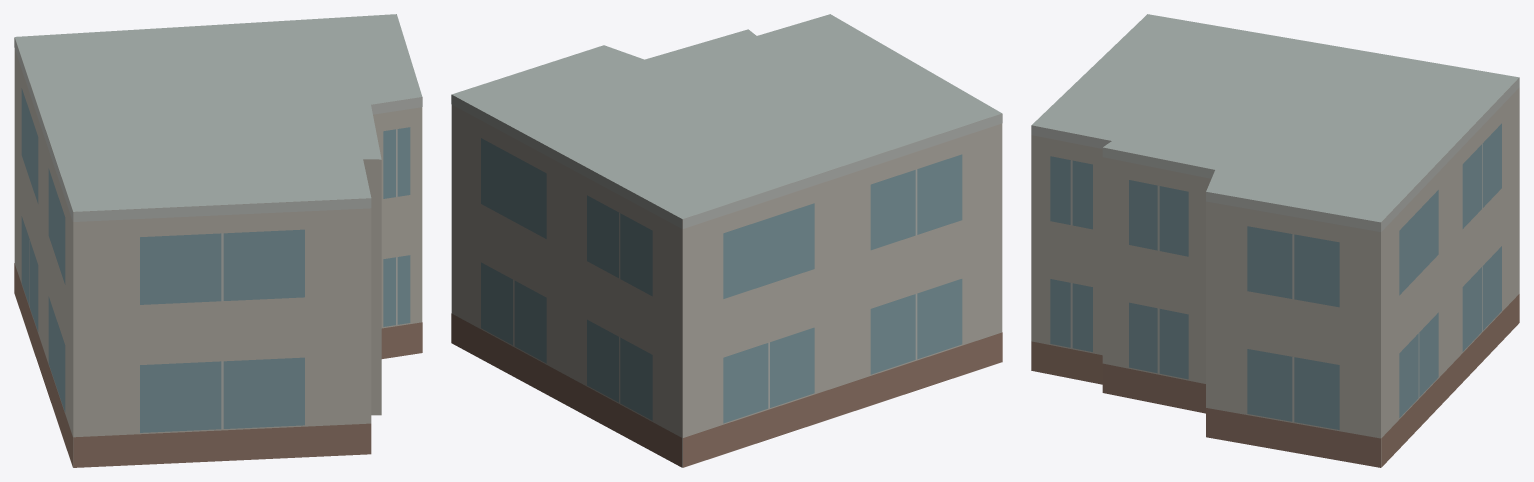
File: survey-upis-32645655.glb
The picture shows the model from 3 angles, left to right: view 1: azimuth 30°, elevation 25°; view 2: azimuth 150°, elevation 25°; view 3: azimuth 270°, elevation 25°; orthographic projection. The views are drawn at different scales.
Visible parts, largest first — view 1: survey-upis-32645655.tmp; view 2: survey-upis-32645655.tmp; view 3: survey-upis-32645655.tmp.
Part boxes in pixels (x1=…): survey-upis-32645655.tmp: x1=14, y1=14, x2=422, y2=467; survey-upis-32645655.tmp: x1=451, y1=14, x2=1002, y2=467; survey-upis-32645655.tmp: x1=1031, y1=14, x2=1519, y2=467.
Size of the model in its own units: 11.12 by 6.1 by 11.01.
